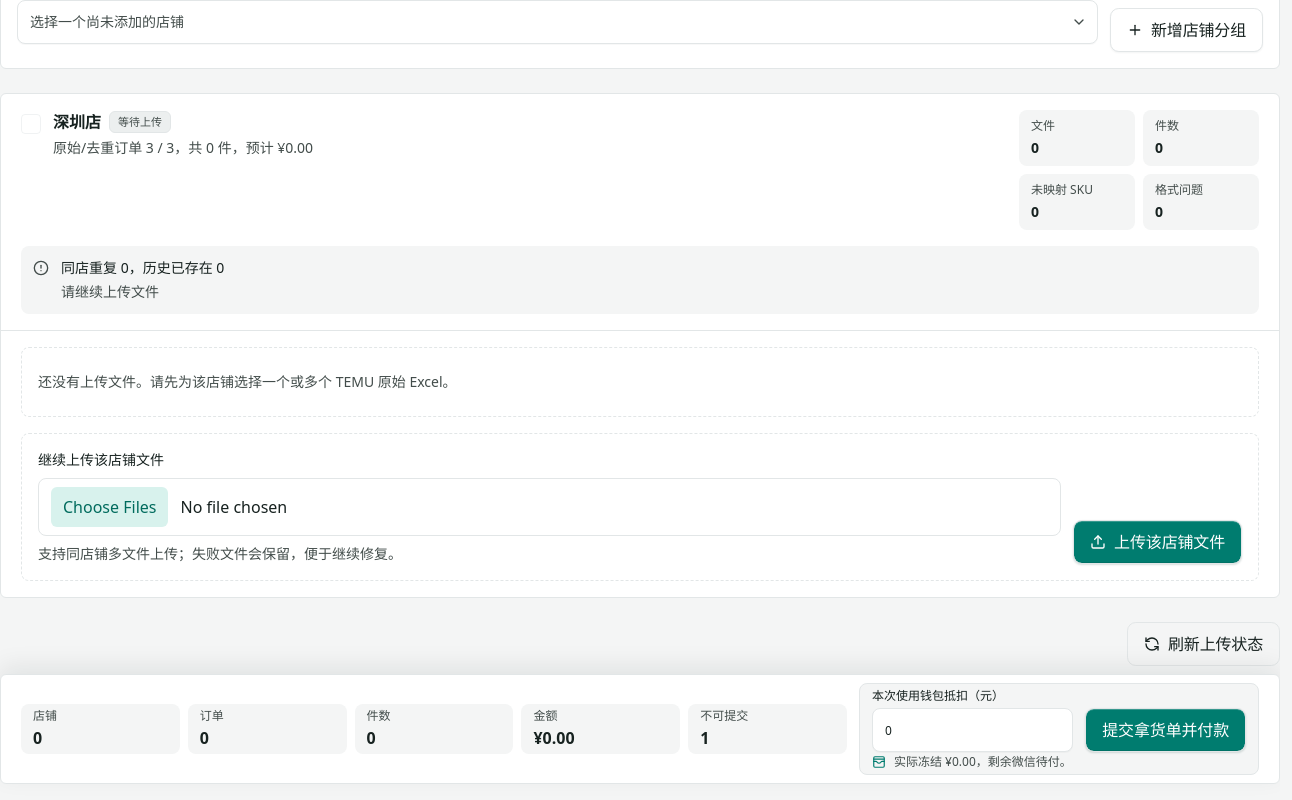
Test: BulkOrderWorkspace › focuses the file input when uploading without selecting a file
(page scrolled)
Click the button "上传该店铺文件": (1158, 542) [1073,520,1242,564]
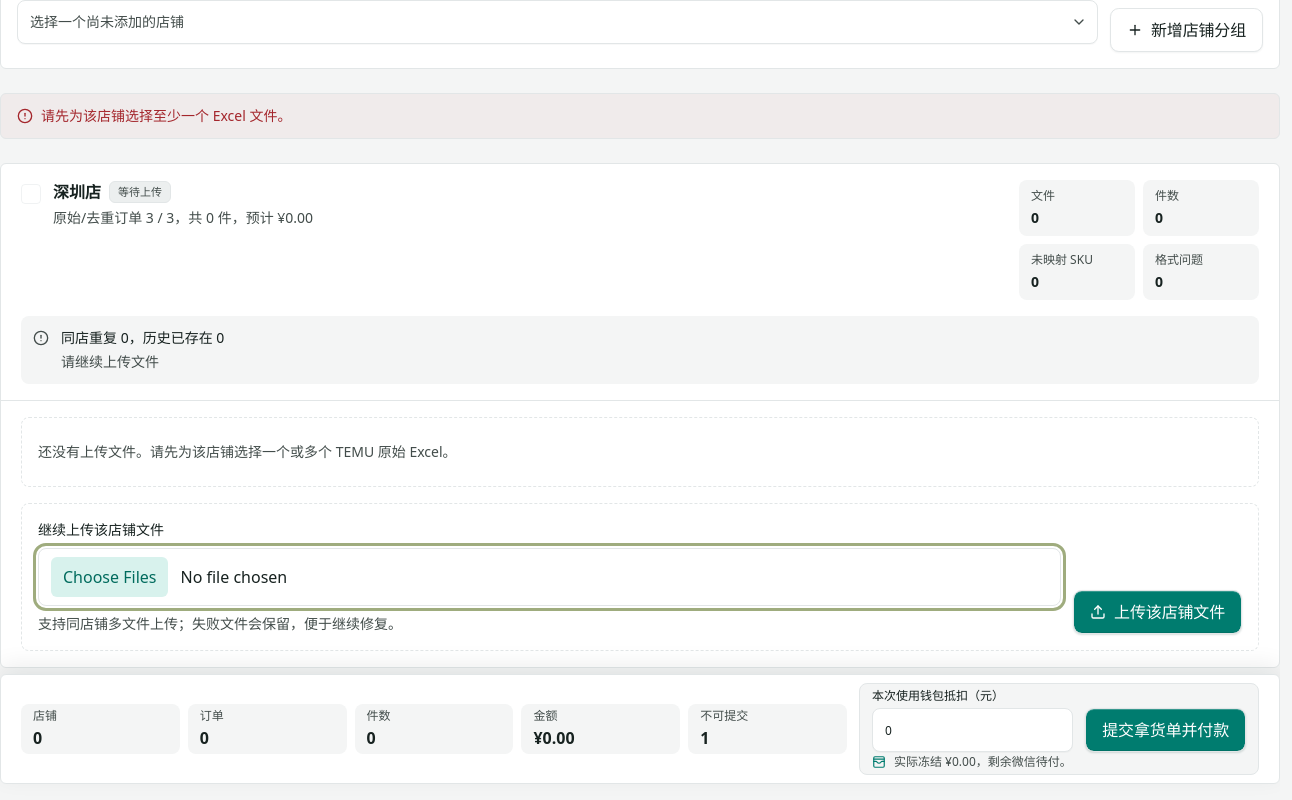
Expected: the message reads "请先为该店铺选择至少一个 Excel 文件。", [41,106,291,125]
